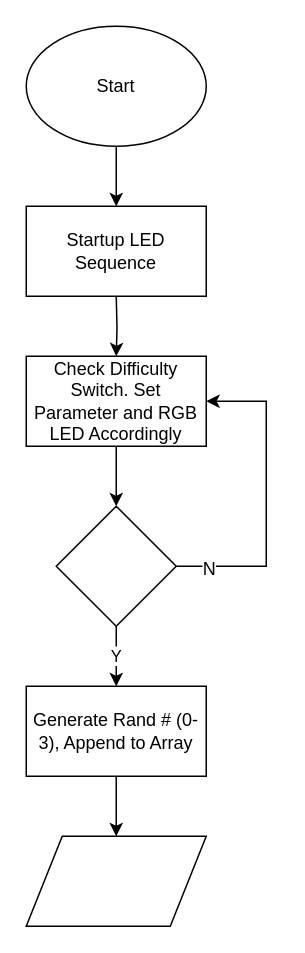
Some shapes in this 305 by 953 pixel diagram are drawn without their labels. The shapes that lost their labels are listed below. From the top down, each one's centre as x and y in pixels, then its label:
At (115,565): "Start Button?".
At (115,880): "Output matching LED/Tone".
